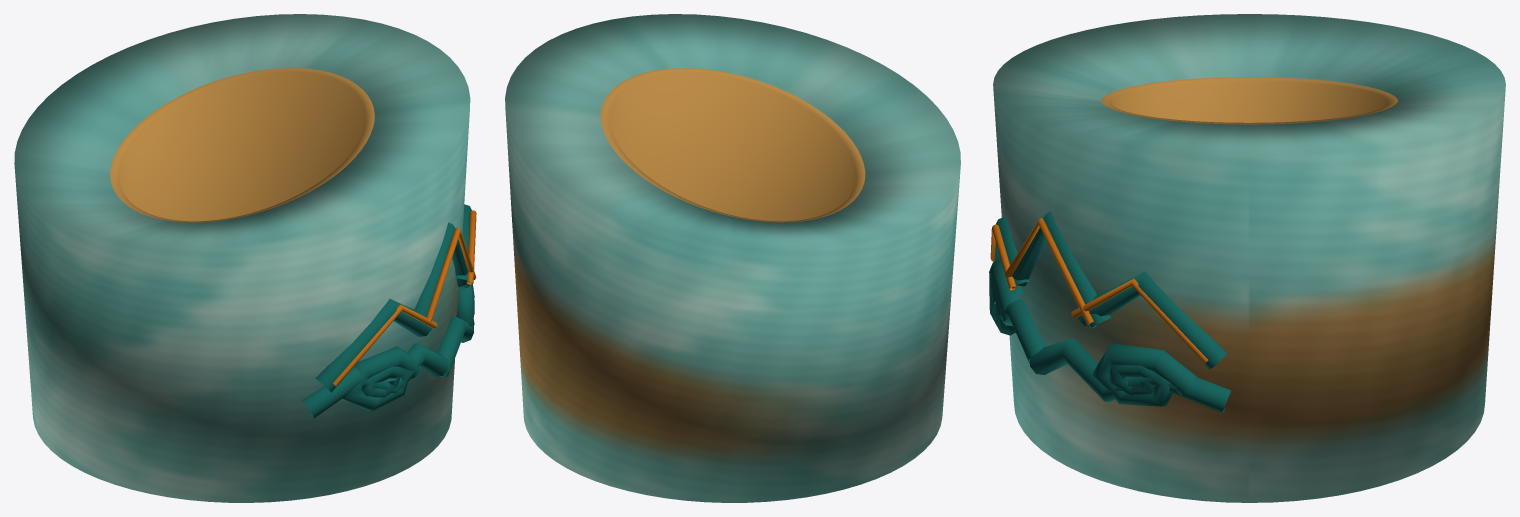
Rendered from banzhi.glb.
3 views of the same model, side by side, from view 1: azimuth 30°, elevation 25°; view 2: azimuth 150°, elevation 25°; view 3: azimuth 270°, elevation 25° (orthographic). The views are drawn at different scales.
Visible parts, largest first — view 1: banzhi; view 2: banzhi; view 3: banzhi.
Boxes of the visible parts, x1,y1,x2,y2 form: banzhi: (14,14,476,502); banzhi: (505,14,960,502); banzhi: (989,14,1505,502).
Size of the model in its own units: 0.9955 by 0.7615 by 1.
1 material, 1 textured.
